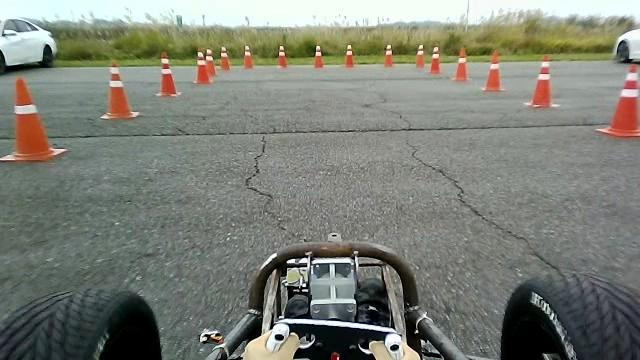red cone: (0, 76, 68, 161), (594, 63, 639, 137), (99, 60, 139, 119), (523, 54, 560, 108), (154, 51, 181, 97), (481, 49, 506, 91), (192, 51, 213, 84), (451, 46, 469, 81), (428, 46, 440, 74), (205, 48, 217, 76), (220, 46, 231, 70), (313, 45, 324, 68), (344, 44, 354, 67), (277, 45, 287, 68), (243, 45, 253, 68), (415, 44, 425, 67), (384, 44, 393, 67)
